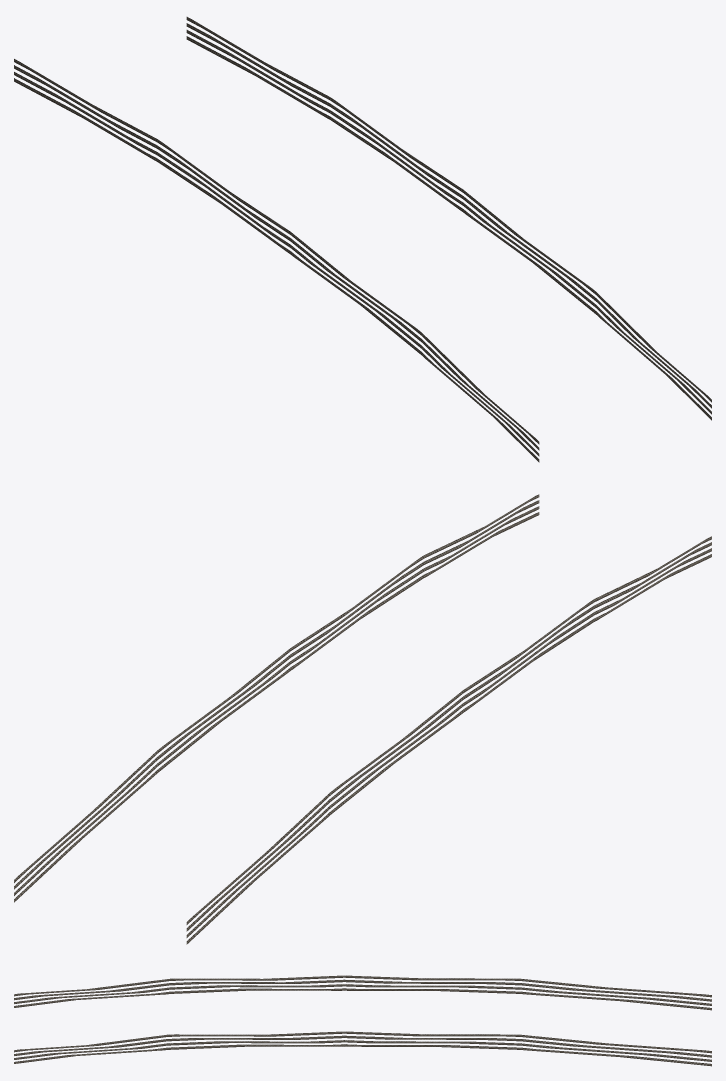
Rendered from prtbrdgrope_lvs.obj.
3 views of the same model, one above another, from view 1: azimuth 30°, elevation 25°; view 2: azimuth 150°, elevation 25°; view 3: azimuth 270°, elevation 25° (orthographic). The views are drawn at different scales.
Visible parts, largest first — view 1: prtbrdgrope_lvS; view 2: prtbrdgrope_lvS; view 3: prtbrdgrope_lvS.
Boxes of the visible parts, x1,y1,x2,y2 form: prtbrdgrope_lvS: (14,17,711,462); prtbrdgrope_lvS: (14,494,711,944); prtbrdgrope_lvS: (14,975,711,1066).
Size of the model in its own units: 14.95 by 4.59 by 78.83.
1 material, 1 textured.
